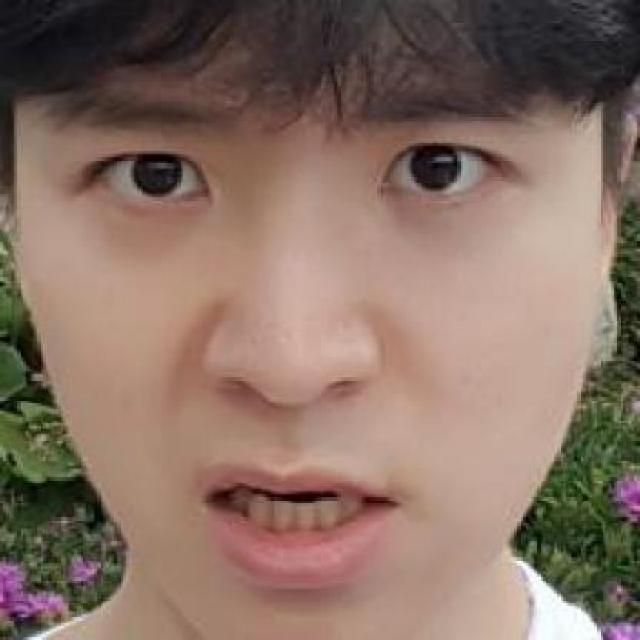angry: (34, 24, 571, 640)
